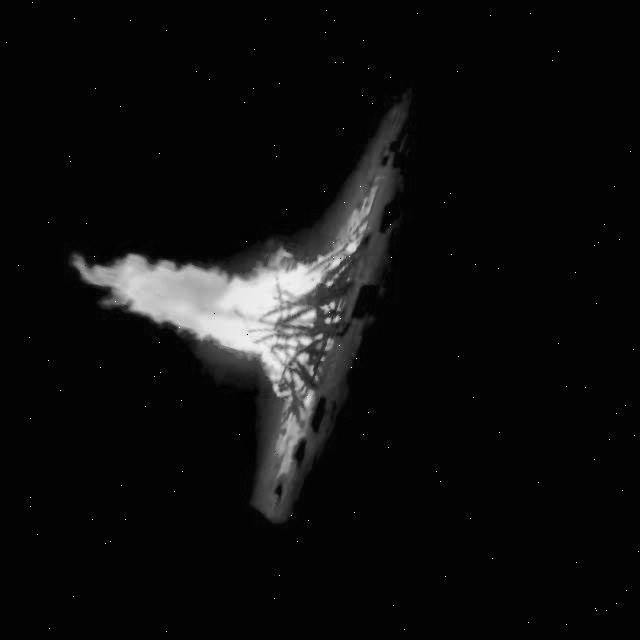Fire: (46, 184, 324, 398)
